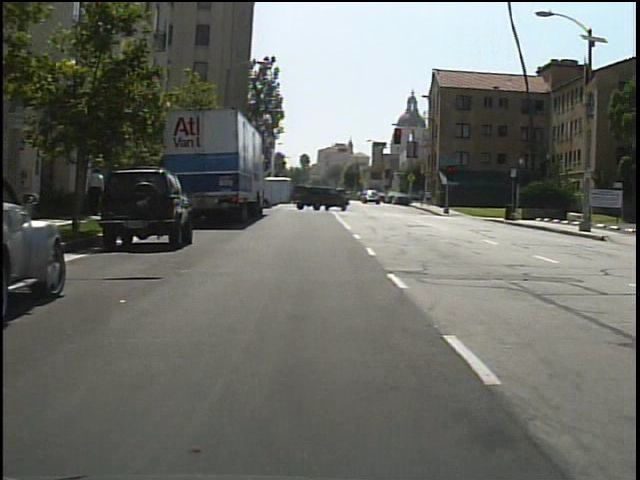person: (87, 164, 110, 216), (418, 188, 428, 209)
